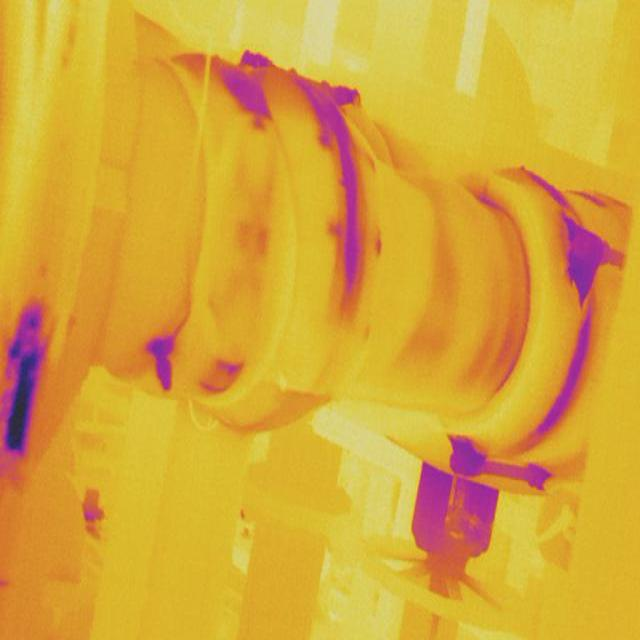leakage: (311, 78, 372, 306), (0, 298, 52, 473), (443, 446, 557, 496), (552, 316, 595, 446), (555, 212, 611, 302), (209, 58, 274, 117), (398, 314, 452, 374), (230, 212, 278, 268), (203, 346, 246, 404), (144, 327, 176, 390), (573, 186, 632, 210), (523, 164, 563, 198)
